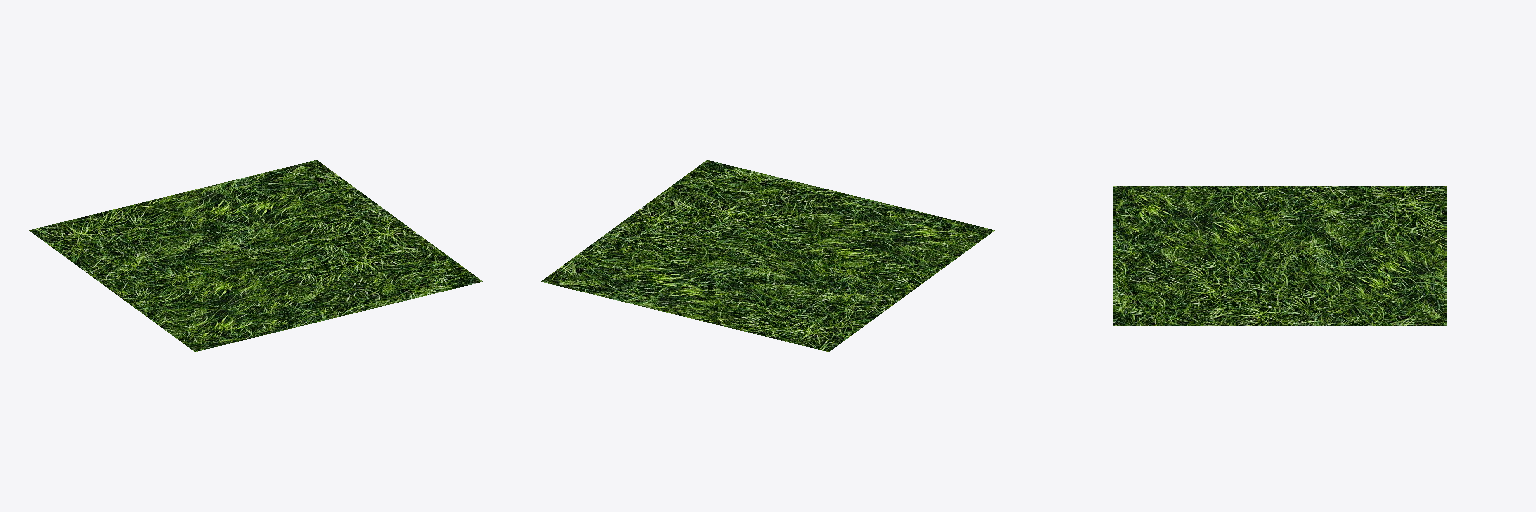
3 renders of one model, left to right at view 1: azimuth 30°, elevation 25°; view 2: azimuth 150°, elevation 25°; view 3: azimuth 270°, elevation 25°, orthographic.
Visible parts, largest first — view 1: Plane; view 2: Plane; view 3: Plane.
Boxes of the visible parts, box(x1,y1,x2,y2) form: Plane: box(29, 160, 482, 351); Plane: box(541, 160, 994, 351); Plane: box(1113, 186, 1446, 325).
Size of the model in its own units: 100 by 0 by 100.
1 materials, 1 textured.